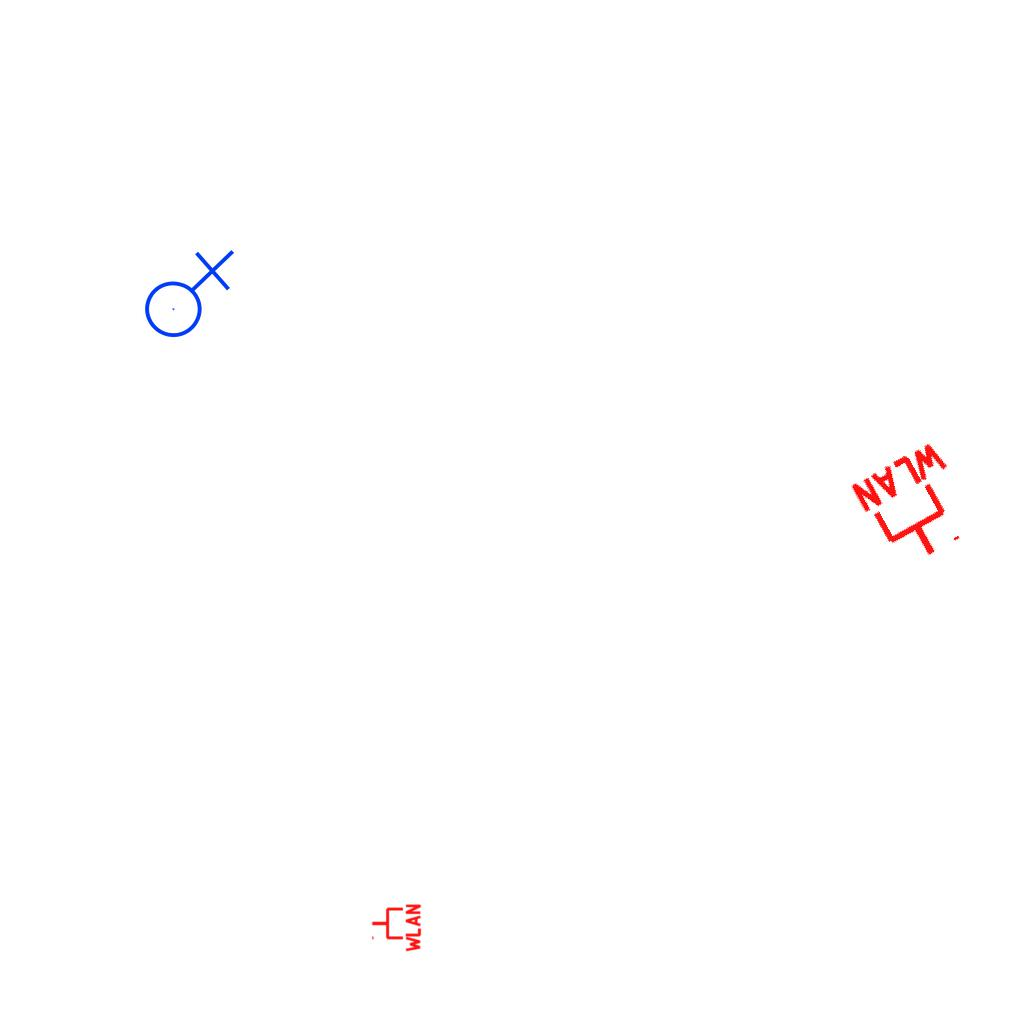Elektroanschluss_allgemein_230V_Geraeteanschlussdose_230V: (136, 245, 235, 339)
WLAN: (845, 435, 988, 579), (370, 902, 422, 954)
